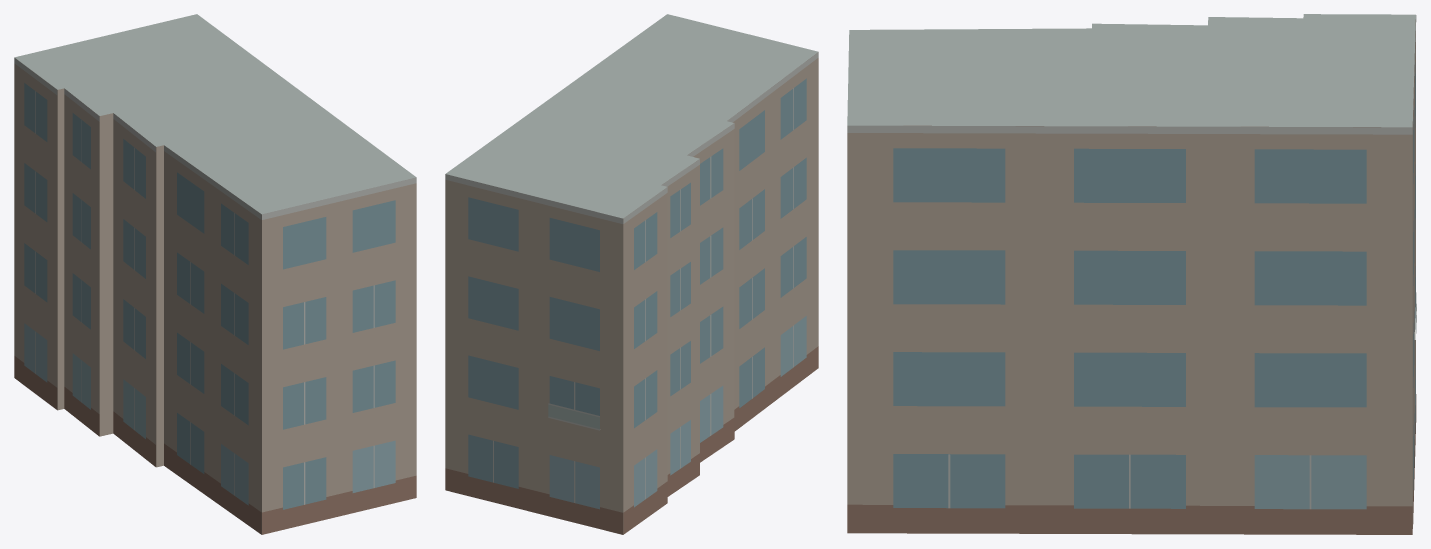
Rendered from survey-upis-32458239.glb.
3 views of the same model, side by side, from view 1: azimuth 30°, elevation 25°; view 2: azimuth 150°, elevation 25°; view 3: azimuth 270°, elevation 25° (orthographic). The views are drawn at different scales.
Visible parts, largest first — view 1: survey-upis-32458239.tmp; view 2: survey-upis-32458239.tmp; view 3: survey-upis-32458239.tmp.
Boxes of the visible parts, bbox=[...] form: survey-upis-32458239.tmp: bbox=[14, 14, 416, 534]; survey-upis-32458239.tmp: bbox=[445, 14, 818, 534]; survey-upis-32458239.tmp: bbox=[847, 14, 1416, 534].
Bounding box in the file's own units: 8.02 × 13.45 × 17.04.
